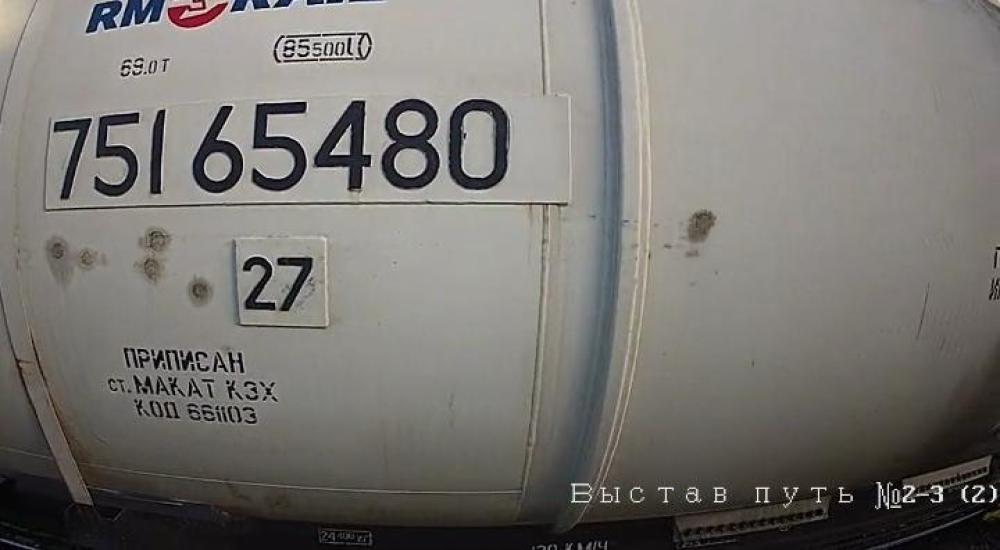Wagon-number: (46, 93, 520, 208)
